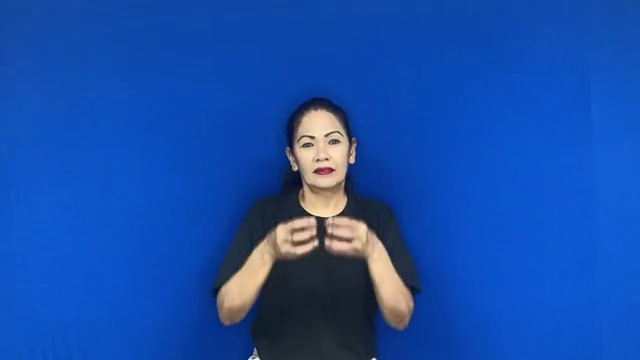egg: (258, 208, 377, 265)
